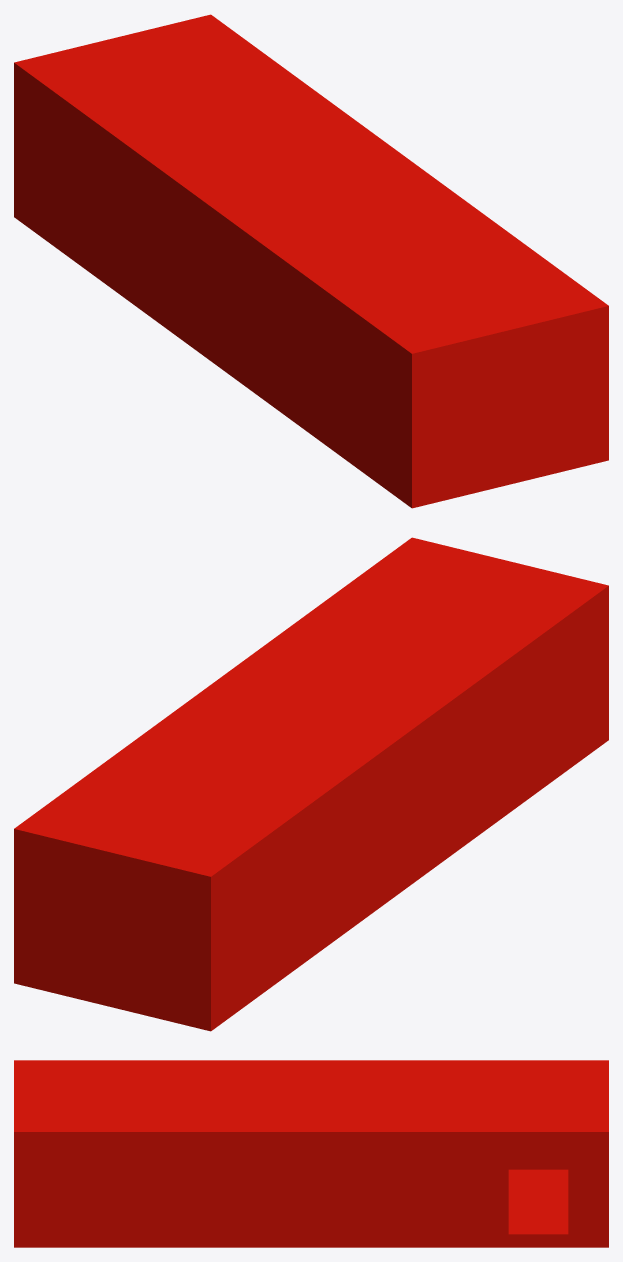
File: Basic Bus.fbx
3 views of the same model, one above another, from view 1: azimuth 30°, elevation 25°; view 2: azimuth 150°, elevation 25°; view 3: azimuth 270°, elevation 25° (orthographic). The views are drawn at different scales.
Visible parts, largest first — view 1: Cube; view 2: Cube; view 3: Cube.
Part boxes in pixels (x1,y1,x2,y2): Cube: (14,14,608,508); Cube: (14,537,608,1031); Cube: (14,1060,608,1247).
Size of the model in its own units: 200 by 150 by 700.
